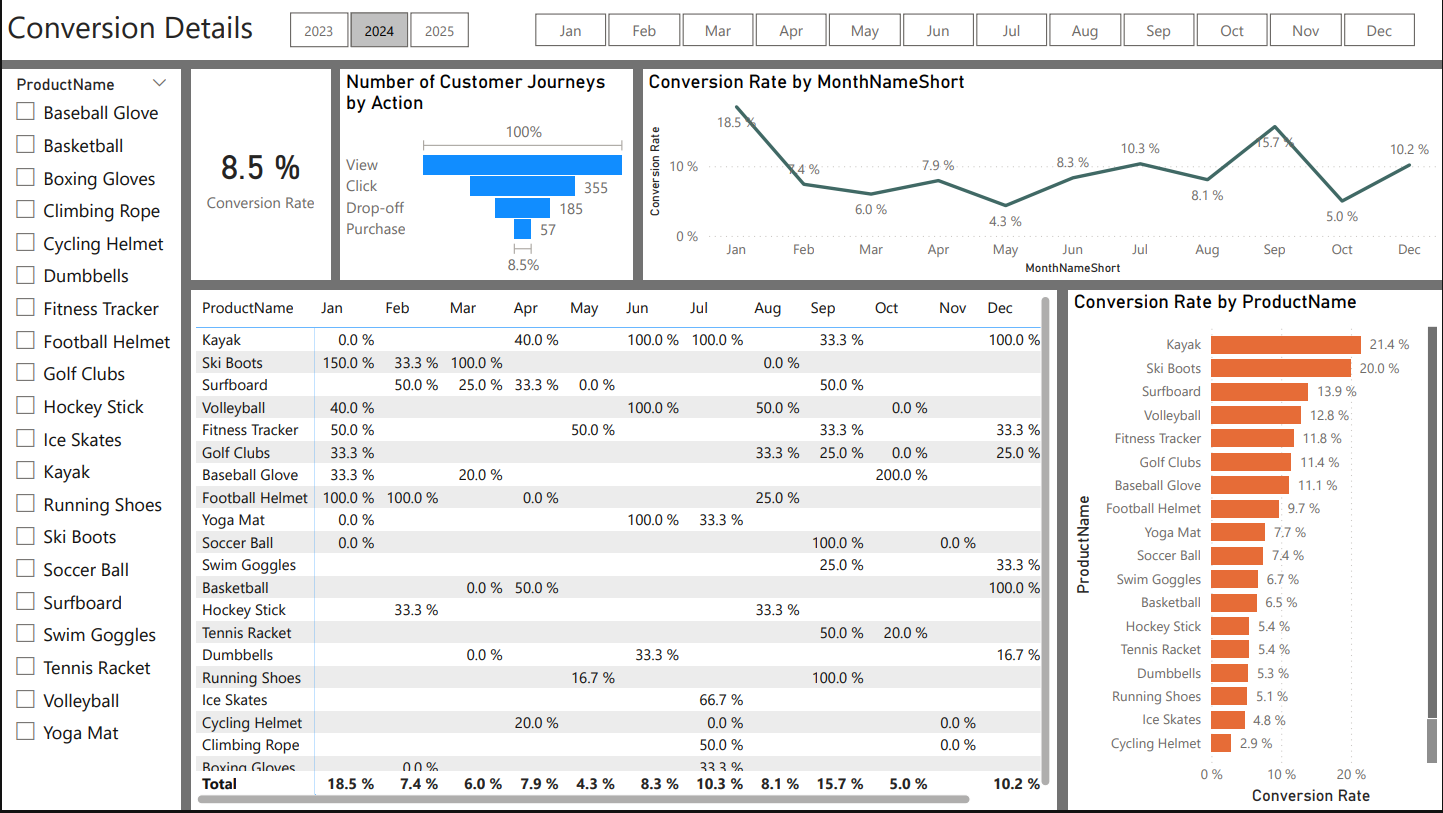

What the dashboard file says about the page in this screenshot:
{"tool":"powerbi","page":{"name":"Conversion Details","canvas":[1280,720],"ordinal":1},"visuals":[{"type":"textbox","box":[0,0,1280,52.6],"z":0},{"type":"slicer","fields":{"Values":["dim_products.ProductName"]},"box":[0,61.9,159.4,658.4],"z":1000},{"type":"card","fields":{"Values":["_Calculations.Conversion Rate"]},"box":[168.5,61.9,123.8,186.7],"z":2000},{"type":"lineChart","fields":{"Y":["_Calculations.Conversion Rate"],"Category":["Calendar.MonthNameShort"]},"box":[570.1,61.9,710.3,186.7],"z":3000},{"type":"clusteredBarChart","fields":{"Category":["dim_products.ProductName"],"Y":["_Calculations.Conversion Rate"]},"box":[948,257.7,332.4,462.6],"z":4000},{"type":"slicer","fields":{"Values":["Calendar.Year"]},"box":[230.2,4.1,208.5,44.4],"z":5000},{"type":"slicer","fields":{"Values":["Calendar.MonthNameShort"]},"box":[448,4.6,832.3,43.7],"z":6000},{"type":"pivotTable","fields":{"Rows":["dim_products.ProductName"],"Values":["_Calculations.Conversion Rate"],"Columns":["Calendar.MonthNameShort"]},"box":[168.5,257.7,768.6,462.6],"z":7000},{"type":"funnel","fields":{"Category":["fact_customer_journey.Action"],"Y":["_Calculations.Number of Customer Journeys"]},"box":[301.4,61.9,259.5,186.7],"z":8000}]}

Visuals, with their boxes in screenshot pixels (x1, y1, x2, y2), scaled from the page's 1280x720 canvas onto the 1443x813 screenshot:
textbox: pyautogui.locateOnScreen(0, 0, 1442, 59)
slicer - dim_products.ProductName: pyautogui.locateOnScreen(0, 70, 180, 812)
card - _Calculations.Conversion Rate: pyautogui.locateOnScreen(190, 70, 330, 281)
lineChart - _Calculations.Conversion Rate x Calendar.MonthNameShort: pyautogui.locateOnScreen(643, 70, 1442, 281)
clusteredBarChart - dim_products.ProductName x _Calculations.Conversion Rate: pyautogui.locateOnScreen(1069, 291, 1442, 812)
slicer - Calendar.Year: pyautogui.locateOnScreen(260, 5, 495, 55)
slicer - Calendar.MonthNameShort: pyautogui.locateOnScreen(505, 5, 1442, 55)
pivotTable - dim_products.ProductName x _Calculations.Conversion Rate: pyautogui.locateOnScreen(190, 291, 1056, 812)
funnel - fact_customer_journey.Action x _Calculations.Number of Customer Journeys: pyautogui.locateOnScreen(340, 70, 632, 281)
